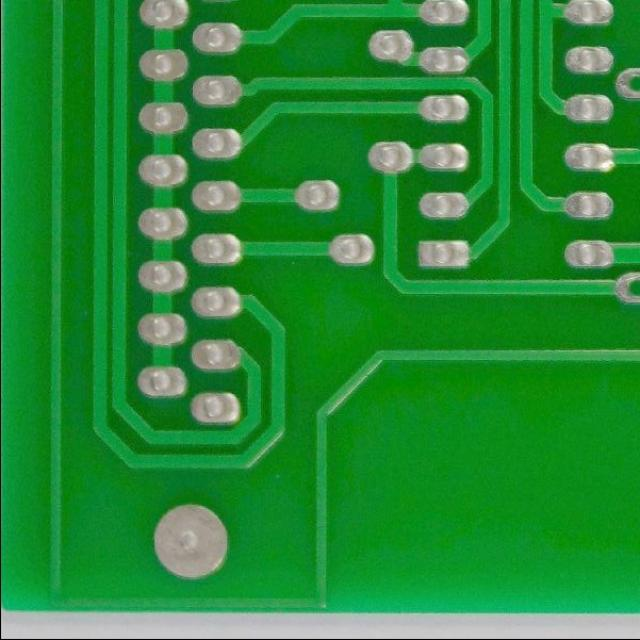missing_hole: (615, 272, 638, 308), (619, 70, 638, 104)
